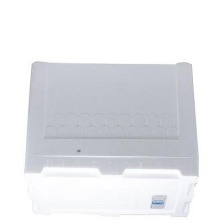foam_box: (16, 55, 206, 223)
